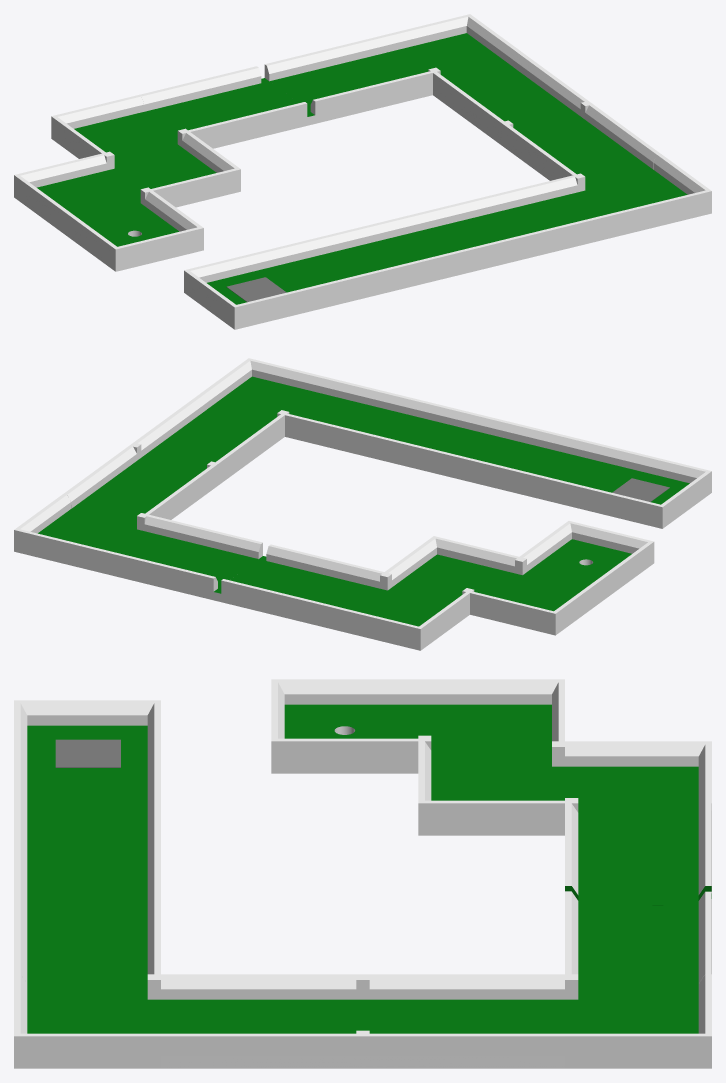
Rendered from Level6Model.obj.
3 views of the same model, one above another, from view 1: azimuth 30°, elevation 25°; view 2: azimuth 150°, elevation 25°; view 3: azimuth 270°, elevation 25° (orthographic). The views are drawn at different scales.
Parts seen in each view (by area): view 1: pCube315; view 2: pCube315; view 3: pCube315.
Part boxes in pixels (box(x1,y1,x2,y2)): pCube315: box(14, 14, 711, 329); pCube315: box(14, 358, 711, 650); pCube315: box(14, 679, 711, 1068).
Size of the model in its own units: 12.9 by 0.5445 by 10.66.
4 materials, 3 textured.
